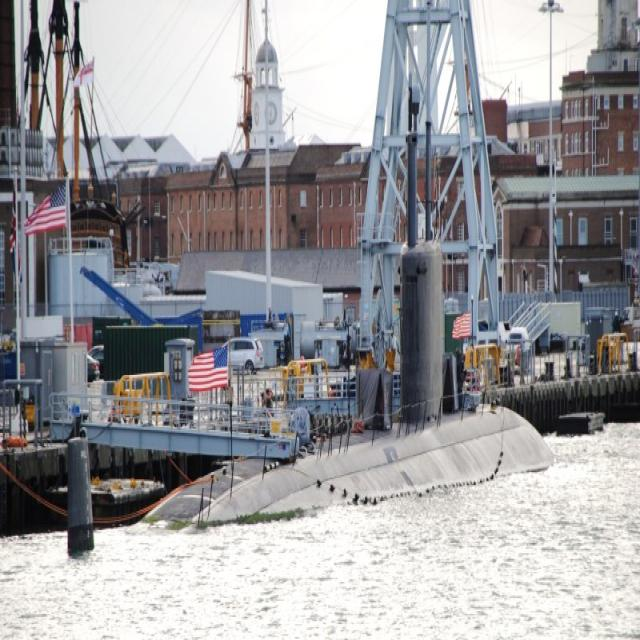submarine: (98, 110, 561, 541)
